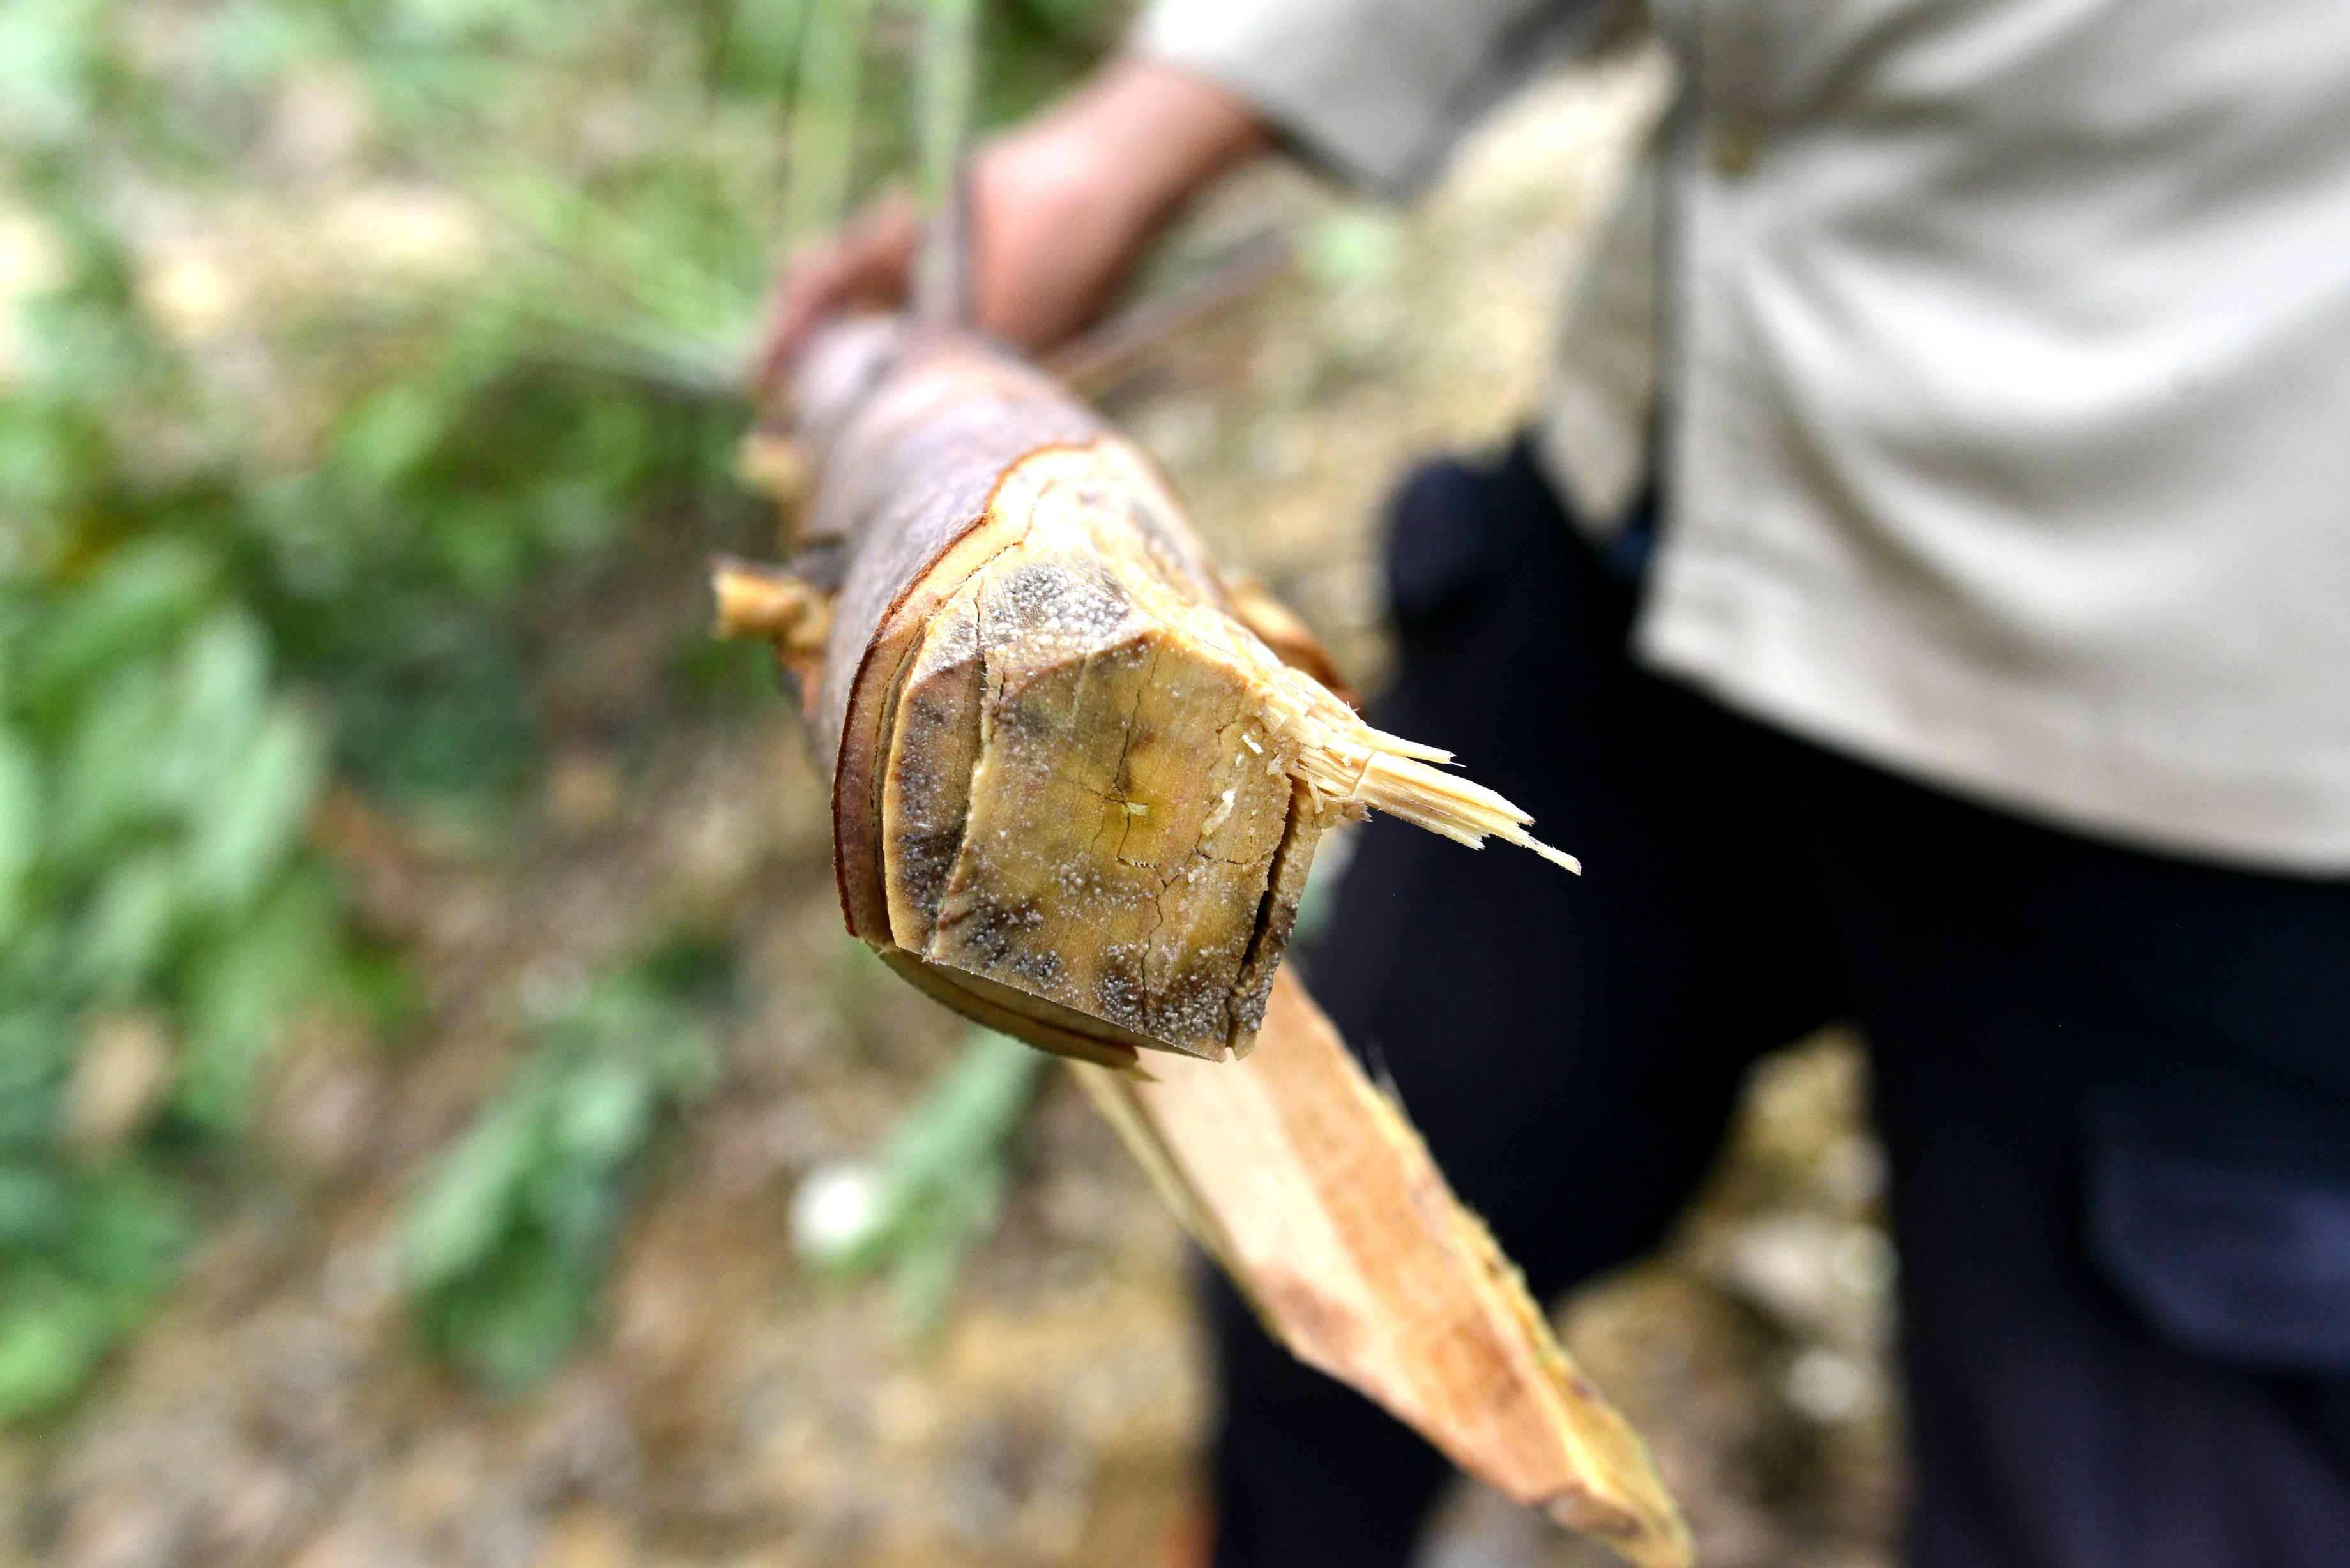Ralstonia: (878, 742, 1087, 1036), (901, 537, 1157, 689), (1102, 908, 1291, 1060)
